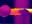Hotspot: (26, 9, 31, 14)
